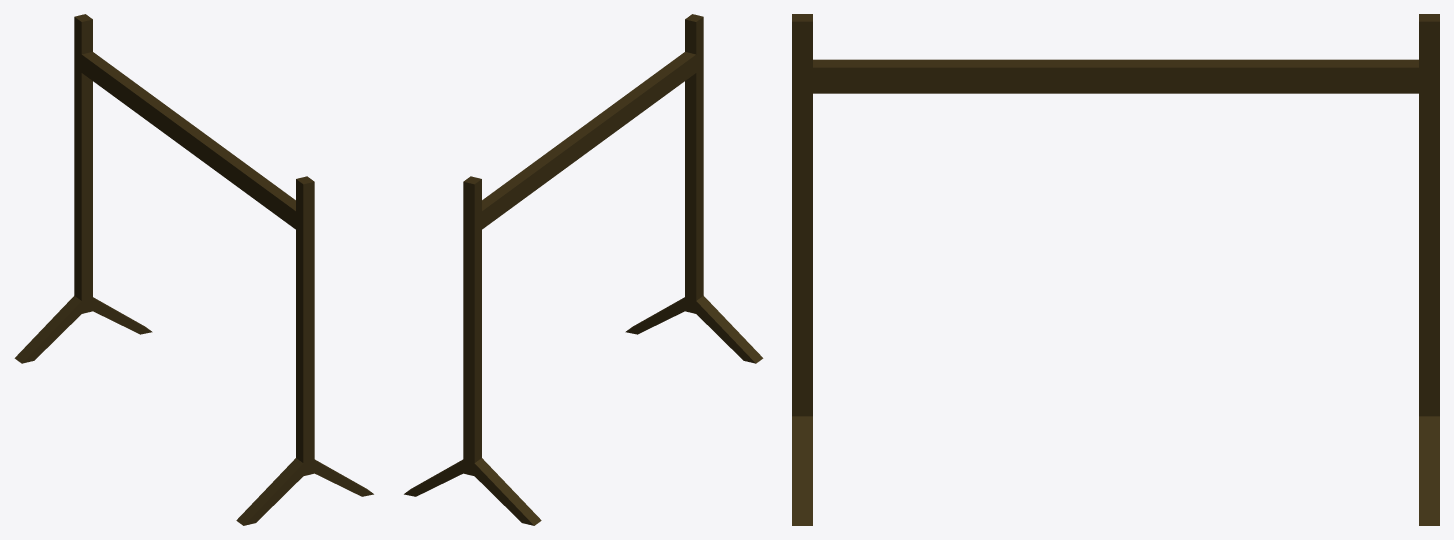
The model's file is Scaffold Tessil.fbx.
3 renders of one model, left to right at view 1: azimuth 30°, elevation 25°; view 2: azimuth 150°, elevation 25°; view 3: azimuth 270°, elevation 25°, orthographic. The views are drawn at different scales.
Parts seen in each view (by area): view 1: Tressil; view 2: Tressil; view 3: Tressil.
Boxes of the visible parts, <box> form: Tressil: <box>14,14,373,525</box>; Tressil: <box>404,14,763,525</box>; Tressil: <box>792,14,1439,525</box>.
Bounding box in the file's own units: 143 × 341 × 432.
